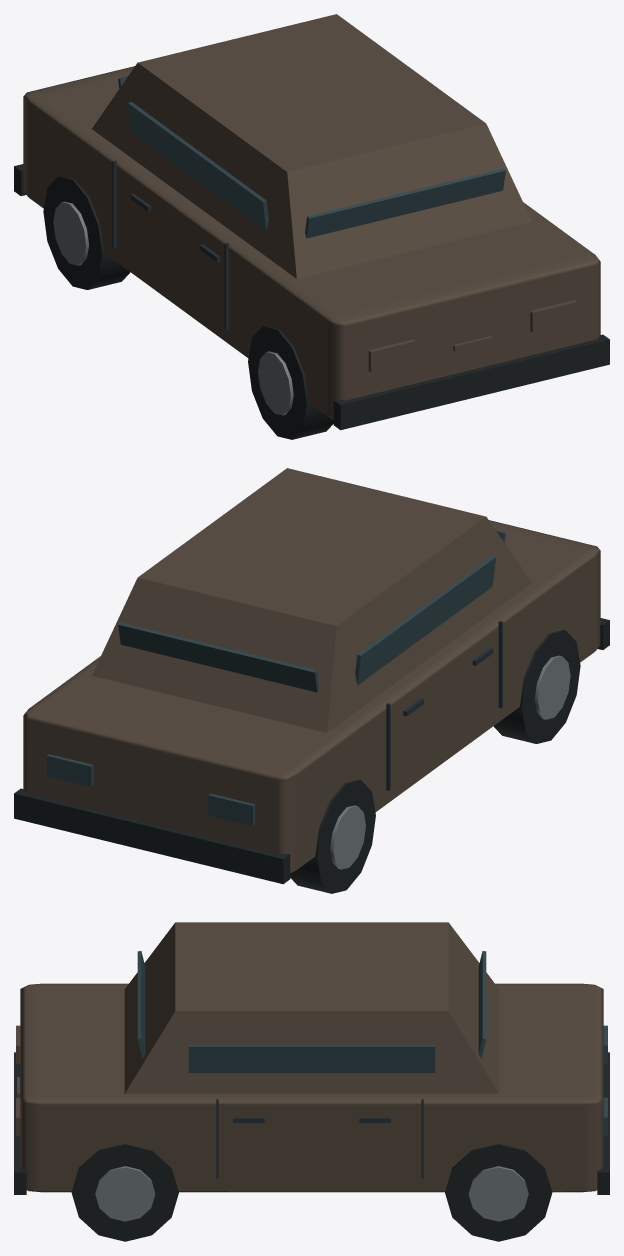
The model's file is hatchback-2.glb.
The picture shows the model from 3 angles, top to bottom: view 1: azimuth 30°, elevation 25°; view 2: azimuth 150°, elevation 25°; view 3: azimuth 270°, elevation 25°; orthographic projection. The views are drawn at different scales.
Parts seen in each view (by area): view 1: hatchback/1/KR-230-2; view 2: hatchback/1/KR-230-2; view 3: hatchback/1/KR-230-2.
Boxes of the visible parts, left/top/right/bottom form: hatchback/1/KR-230-2: left=14, top=14, right=609, bottom=439; hatchback/1/KR-230-2: left=14, top=468, right=609, bottom=893; hatchback/1/KR-230-2: left=14, top=922, right=609, bottom=1241.
Size of the model in its own units: 1.87 by 1.5 by 3.78.
